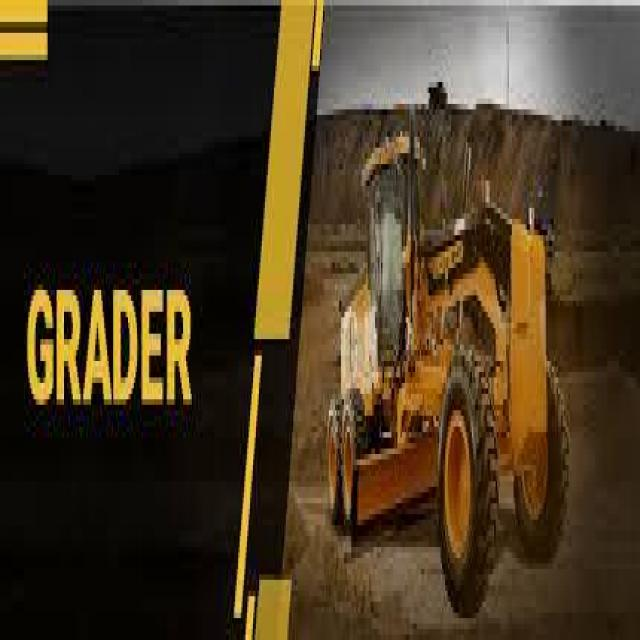Grader: (320, 93, 594, 629)
